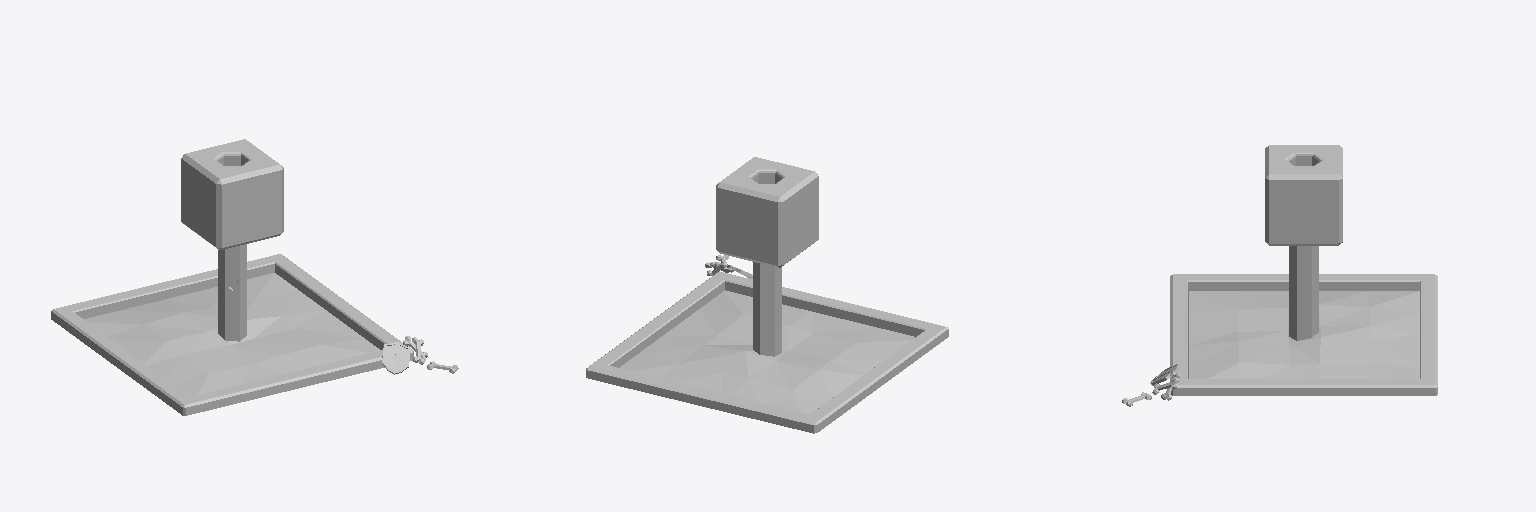
File: Apisonadora.obj
3 renders of one model, left to right at view 1: azimuth 30°, elevation 25°; view 2: azimuth 150°, elevation 25°; view 3: azimuth 270°, elevation 25°, orthographic.
Visible parts, largest first — view 1: suelo.001, Piedra_cuadrada.003, tronco.002, Escudo.003; view 2: suelo.001, Piedra_cuadrada.003, tronco.002; view 3: suelo.001, Piedra_cuadrada.003, tronco.002.
Boxes of the visible parts, x1,y1,x2,y2 form: suelo.001: [51, 254, 413, 415]; Piedra_cuadrada.003: [181, 139, 283, 249]; tronco.002: [218, 244, 246, 341]; Escudo.003: [382, 342, 410, 374]; suelo.001: [586, 271, 948, 433]; Piedra_cuadrada.003: [716, 157, 818, 267]; tronco.002: [753, 262, 781, 356]; suelo.001: [1170, 274, 1437, 395]; Piedra_cuadrada.003: [1265, 145, 1342, 245]; tronco.002: [1289, 246, 1318, 340].
Bounding box in the file's own units: 25.35 × 17.33 × 27.34.